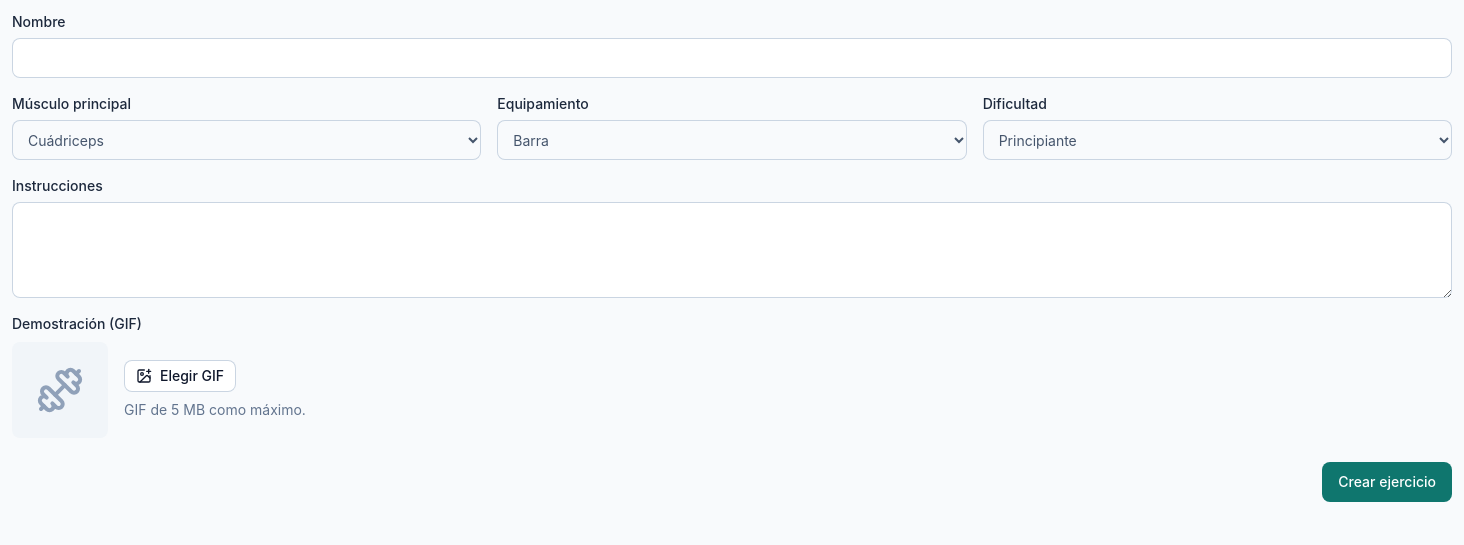
it: ExerciseForm › muestra los errores de validación del esquema compartido
Click the button "Crear ejercicio" at x=1387, y=482, box [1322,462,1452,502]
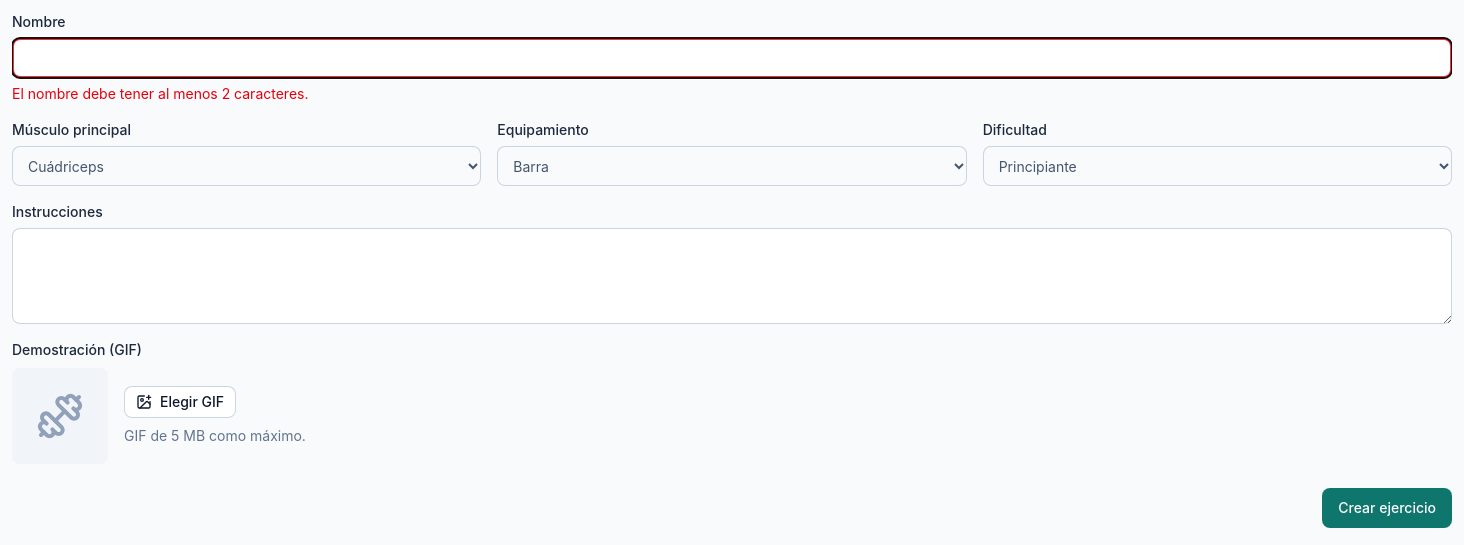
Result: the text "El nombre debe tener al menos 2 caracteres." is shown at [12,85,308,102]
